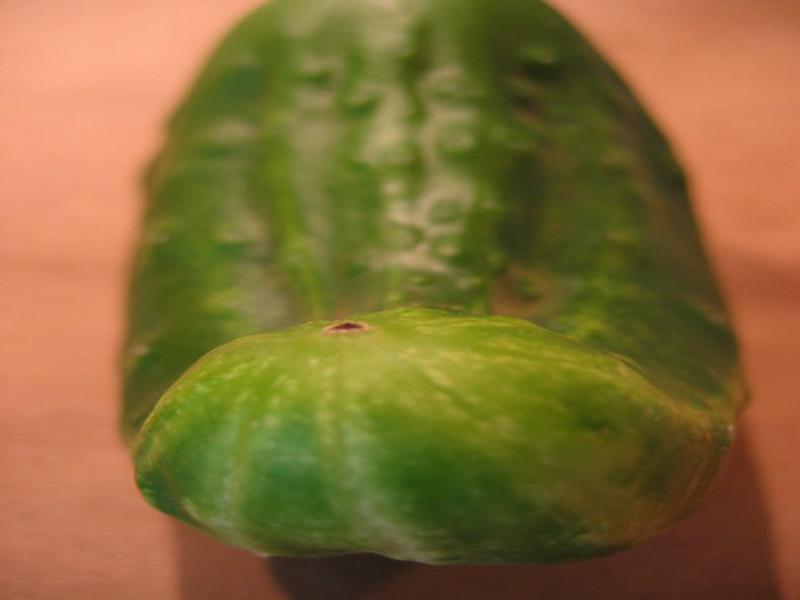Cucumber: (116, 1, 744, 563)
